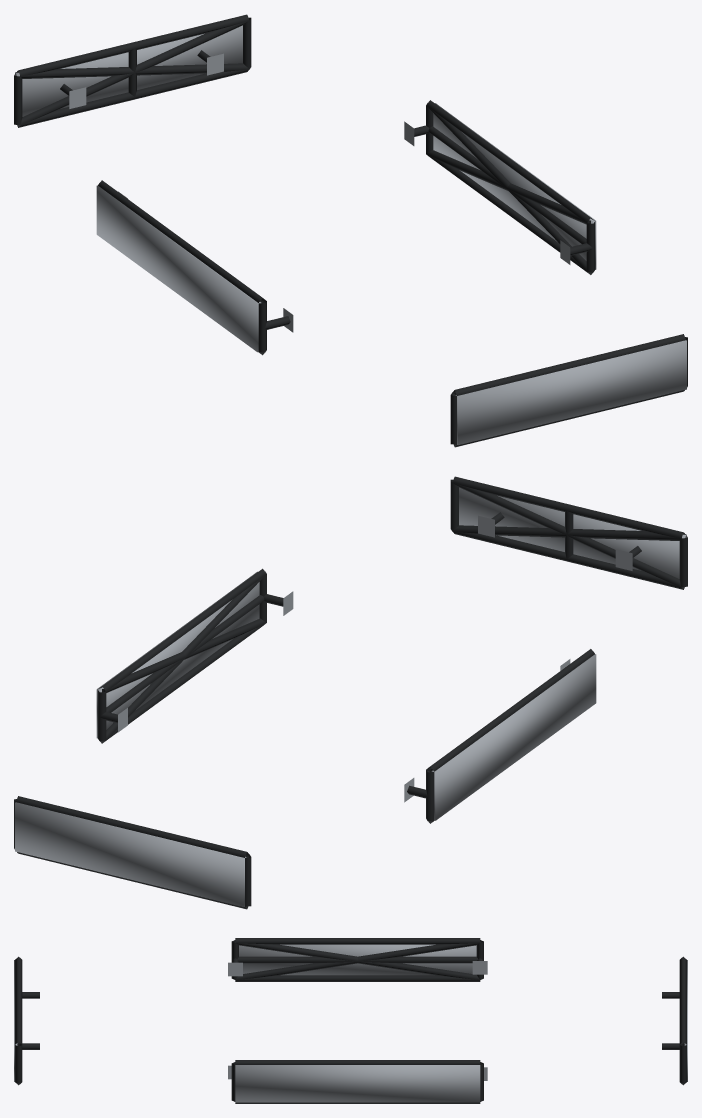
The model's file is vorhaus_sopro_protecao.glb.
3 renders of one model, top to bottom at view 1: azimuth 30°, elevation 25°; view 2: azimuth 150°, elevation 25°; view 3: azimuth 270°, elevation 25°, orthographic. The views are drawn at different scales.
Parts seen in each view (by area): view 1: Protection_front_Level3_Details, Protection_left_Level3_Details, Protection_rear_Level1_Details, Protection_rear_Level3_Details, Protection_right_Level1_Details, Protection_rear_Level2_Details, Protection_right_Level2_Details, Protection_right_Level3_Details, Protection_front_Level1_Details, Protection_left_Level1_Details; view 2: Protection_rear_Level3_Details, Protection_left_Level3_Details, Protection_front_Level1_Details, Protection_front_Level3_Details, Protection_right_Level1_Details, Protection_front_Level2_Details, Protection_right_Level2_Details, Protection_right_Level3_Details, Protection_rear_Level1_Details, Protection_left_Level1_Details; view 3: Protection_right_Level3_Details, Protection_left_Level2_Details, Protection_left_Level3_Details, Protection_left_Level1_Details, Protection_right_Level1_Details, Protection_rear_Level1_Details, Protection_front_Level1_Details.
Part boxes in pixels (box(x1,y1,x2,y2)): Protection_front_Level3_Details: box(455, 340, 686, 445); Protection_left_Level3_Details: box(96, 185, 261, 352); Protection_rear_Level1_Details: box(14, 14, 251, 127); Protection_rear_Level3_Details: box(15, 25, 242, 116); Protection_right_Level1_Details: box(404, 100, 595, 274); Protection_rear_Level2_Details: box(16, 21, 249, 126); Protection_right_Level2_Details: box(426, 106, 594, 274); Protection_right_Level3_Details: box(433, 103, 596, 269); Protection_front_Level1_Details: box(450, 334, 687, 447); Protection_left_Level1_Details: box(98, 180, 293, 355); Protection_rear_Level3_Details: box(15, 802, 246, 907); Protection_left_Level3_Details: box(431, 654, 596, 820); Protection_front_Level1_Details: box(450, 476, 687, 589); Protection_front_Level3_Details: box(459, 487, 686, 578); Protection_right_Level1_Details: box(97, 568, 293, 743); Protection_front_Level2_Details: box(452, 483, 685, 588); Protection_right_Level2_Details: box(99, 575, 266, 743); Protection_right_Level3_Details: box(96, 571, 259, 738); Protection_rear_Level1_Details: box(14, 796, 251, 909); Protection_left_Level1_Details: box(404, 649, 594, 823); Protection_right_Level3_Details: box(235, 1065, 480, 1102); Protection_left_Level2_Details: box(235, 942, 480, 979); Protection_left_Level3_Details: box(239, 944, 476, 975); Protection_left_Level1_Details: box(228, 938, 487, 981); Protection_right_Level1_Details: box(228, 1060, 487, 1103); Protection_rear_Level1_Details: box(662, 956, 686, 1085); Protection_front_Level1_Details: box(15, 956, 39, 1085).
Bounding box in the file's own units: 2.18 × 0.354 × 4.93.
1 material, 1 textured.
